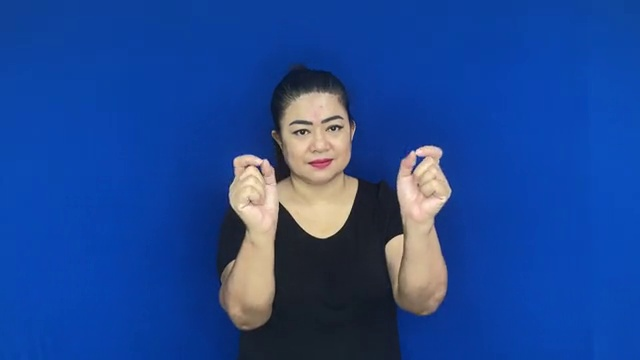crab: (226, 141, 457, 237)
